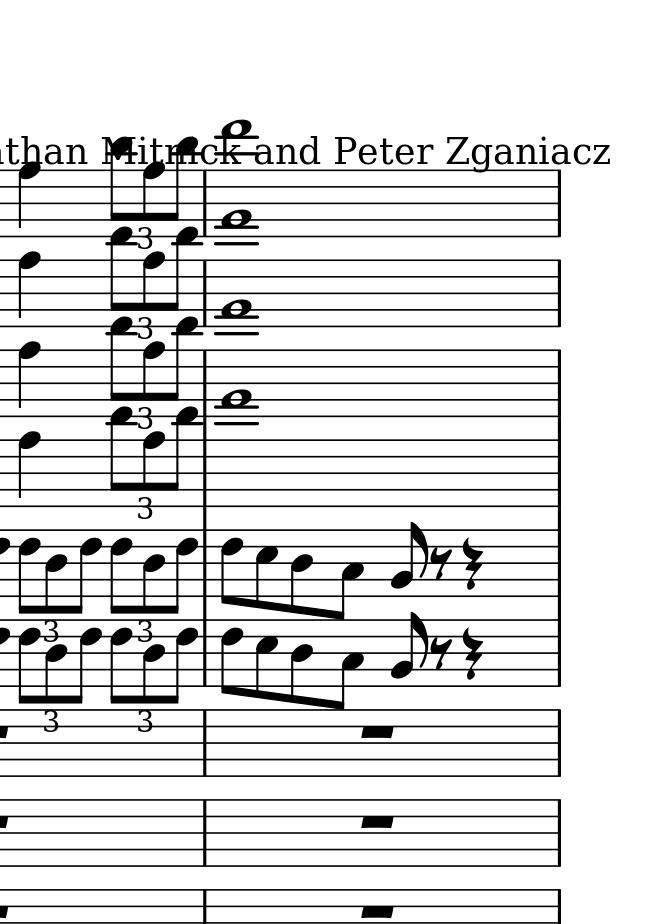4_8: (17, 431, 43, 510), (19, 341, 42, 422), (17, 162, 40, 239)
8_2: (390, 522, 428, 599), (390, 611, 427, 690)
Rests1: (357, 721, 401, 743), (357, 899, 399, 920), (359, 811, 396, 832)
Rests4: (460, 535, 482, 592), (460, 624, 480, 679)
Rests8: (430, 633, 452, 674), (431, 545, 451, 582)
Single_barline: (545, 438, 568, 508), (545, 529, 566, 597), (194, 800, 212, 869), (550, 616, 567, 688), (548, 350, 566, 417), (552, 799, 569, 867), (198, 168, 214, 237), (196, 709, 212, 777), (553, 260, 568, 330), (552, 708, 566, 780), (553, 173, 568, 234)
